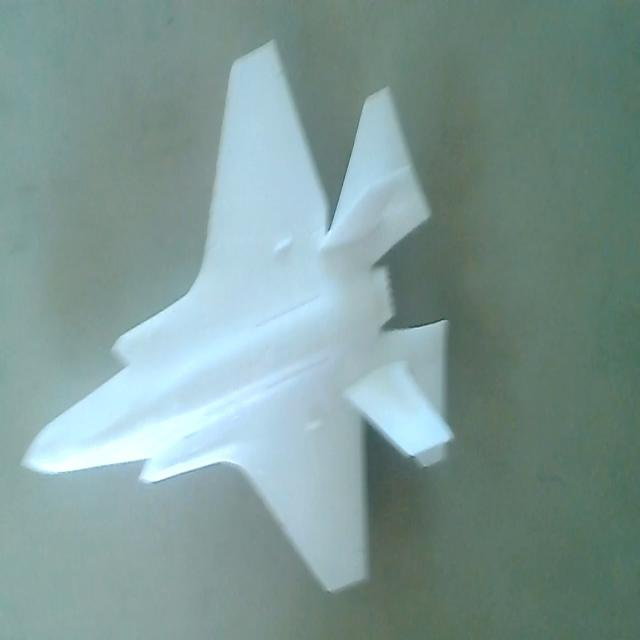Jet: (18, 37, 452, 610)
